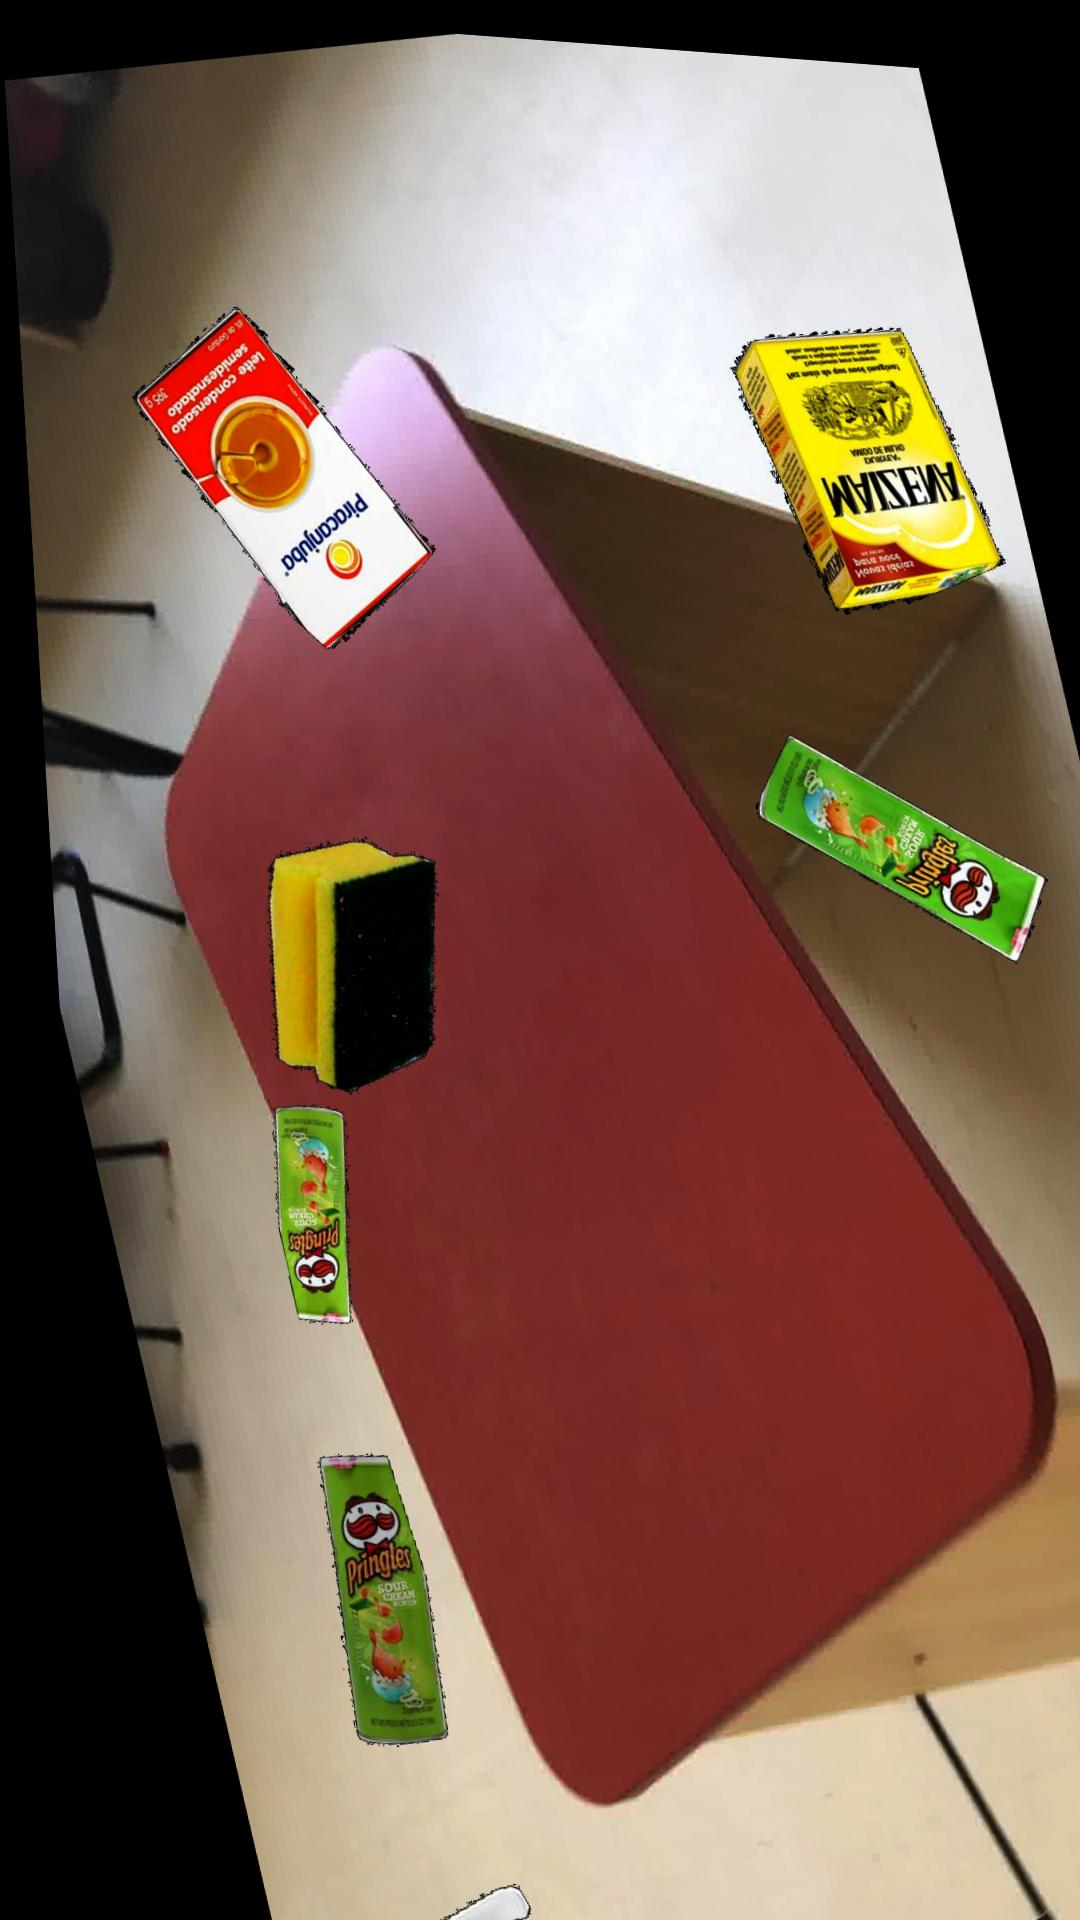fork: (415, 1880, 509, 1920)
pringles: (748, 724, 1039, 948), (303, 1451, 429, 1742), (261, 1102, 338, 1321)
sponge: (258, 835, 427, 1089)
